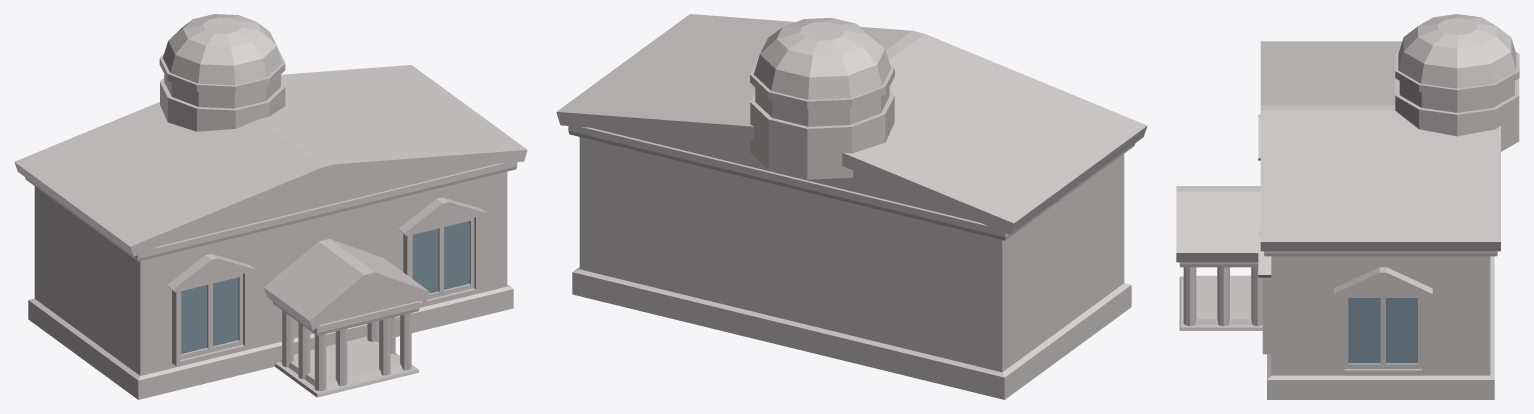
File: Building_Bank.fbx
The picture shows the model from 3 angles, left to right: view 1: azimuth 30°, elevation 25°; view 2: azimuth 150°, elevation 25°; view 3: azimuth 270°, elevation 25°; orthographic projection. The views are drawn at different scales.
Visible parts, largest first — view 1: Building_Bank; view 2: Building_Bank; view 3: Building_Bank.
Boxes of the visible parts, bbox=[...] form: Building_Bank: bbox=[14, 14, 527, 399]; Building_Bank: bbox=[556, 14, 1147, 399]; Building_Bank: bbox=[1176, 14, 1519, 399].
Bounding box in the file's own units: 2793 × 1772 × 2020.
